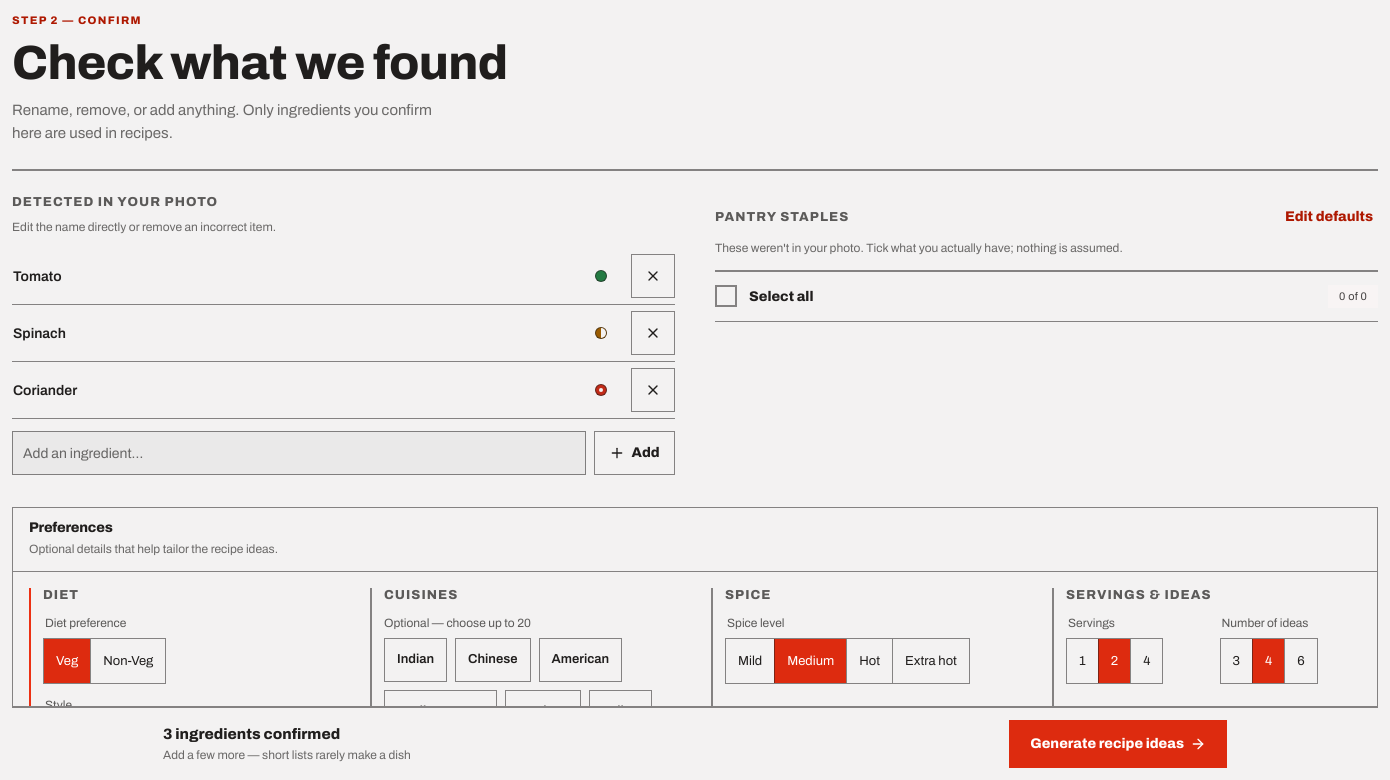
Test: ConfirmScreen pantry editor focus › warns that saving current defaults clears generated content
The image size is (1390, 780).
Click the button "Edit defaults" at point(1329, 217), box [1280,195,1378,239]
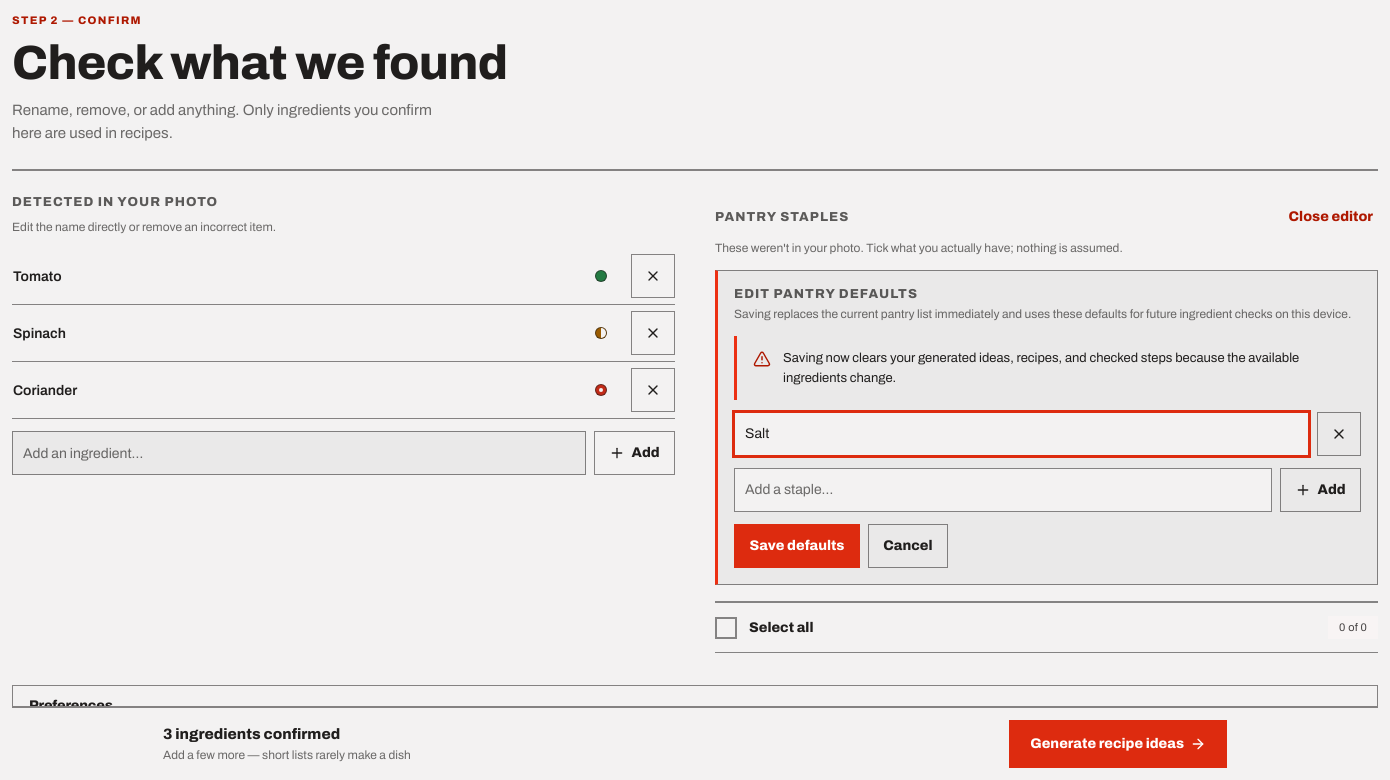
Now the text "Saving replaces the current pantry list immediately" is shown, box [734,307,1351,321]
Now the text "Saving now clears your generated ideas, recipes, and checked steps" is shown, box [783,351,1299,385]
